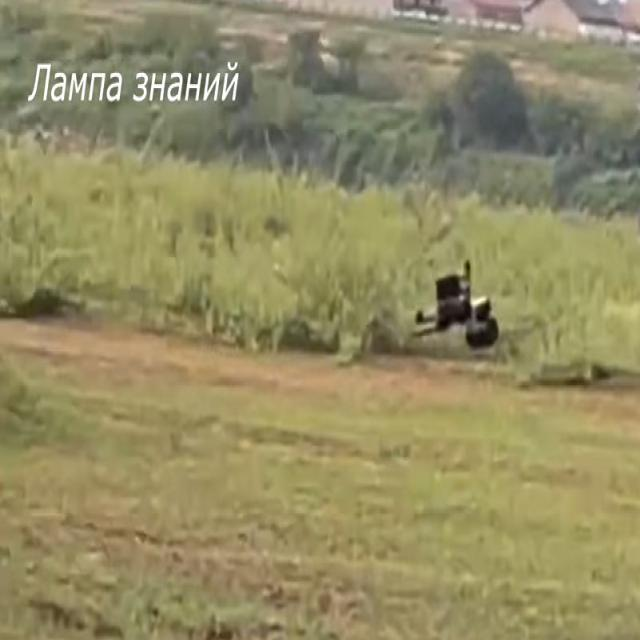drone: (400, 255, 504, 358)
